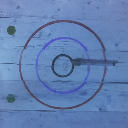Axe Tip: (71, 59, 82, 61)
